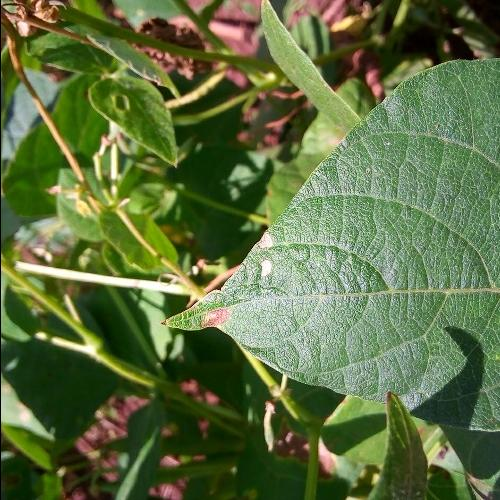hawar: (188, 303, 238, 328)
sehat: (394, 146, 500, 281)
